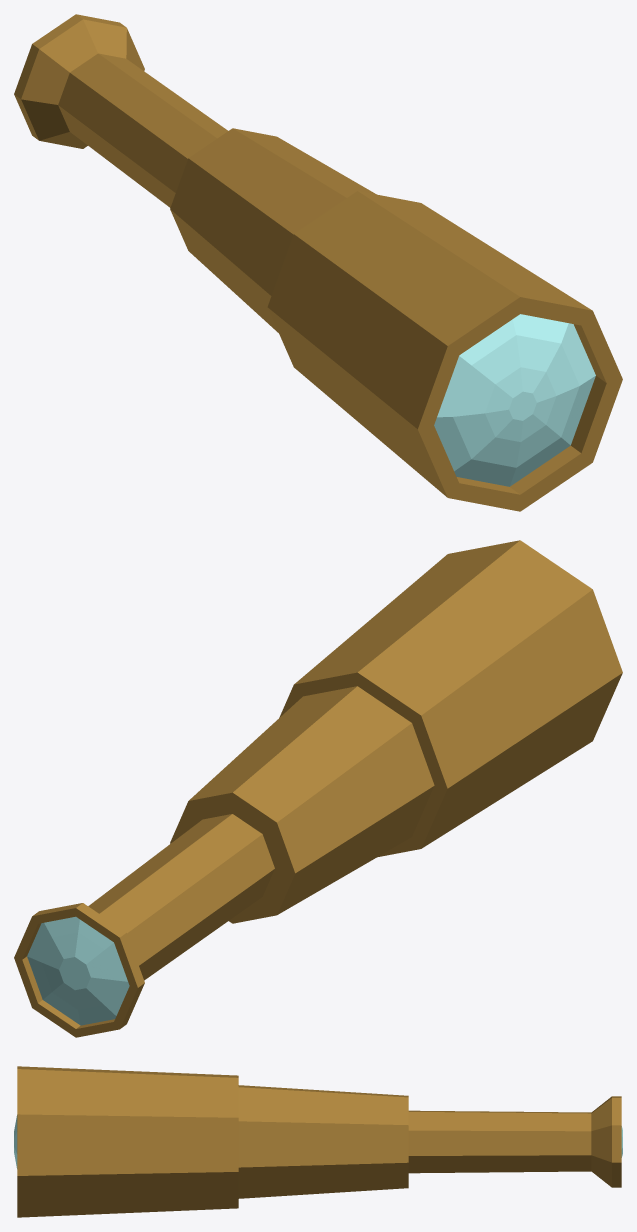
The model's file is Telescope.fbx.
3 renders of one model, top to bottom at view 1: azimuth 30°, elevation 25°; view 2: azimuth 150°, elevation 25°; view 3: azimuth 270°, elevation 25°, orthographic. The views are drawn at different scales.
Visible parts, largest first — view 1: Telescope; view 2: Telescope; view 3: Telescope.
Part boxes in pixels (left/top/right/bottom): Telescope: left=14, top=14, right=622, bottom=511; Telescope: left=14, top=540, right=622, bottom=1037; Telescope: left=14, top=1066, right=622, bottom=1217.
Size of the model in its own units: 167 by 167 by 633.
